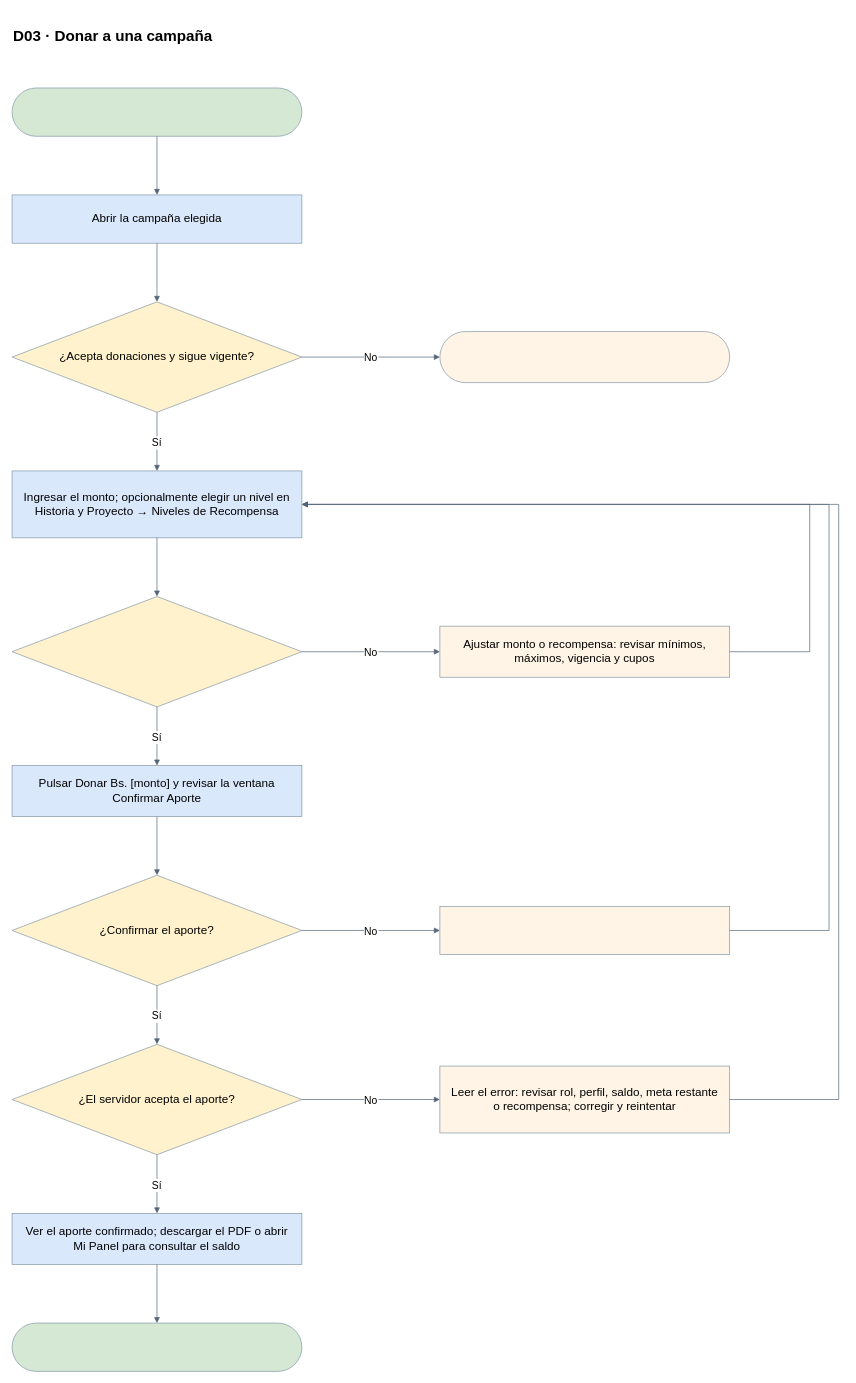
Image size: 856x1383. Some labels were removed from this diagram. Each missing label, with the box of its shape:
Cancelar y volver al formulario: (439, 906, 730, 955)
Elegir otra campaña: esta está cerrada, financiada o no disponible: (439, 331, 730, 383)
Fin: (11, 1322, 302, 1371)
Inicio: (11, 87, 302, 136)
¿Cumple monto y condiciones de recompensa?: (11, 596, 302, 707)
